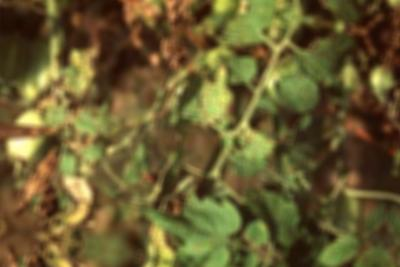Tomato Septoria leaf spot: (216, 120, 283, 190), (261, 131, 330, 194), (190, 60, 241, 129), (264, 65, 327, 117), (218, 3, 277, 54), (216, 48, 264, 90)
